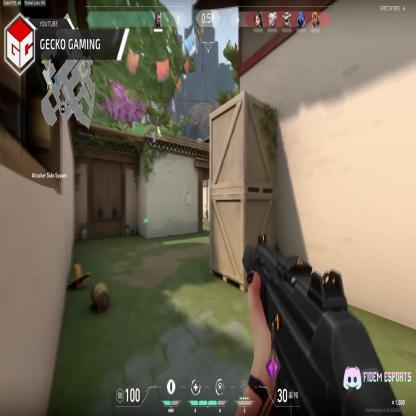enemy: (206, 202, 209, 218)
enemy_head: (206, 202, 208, 206)
